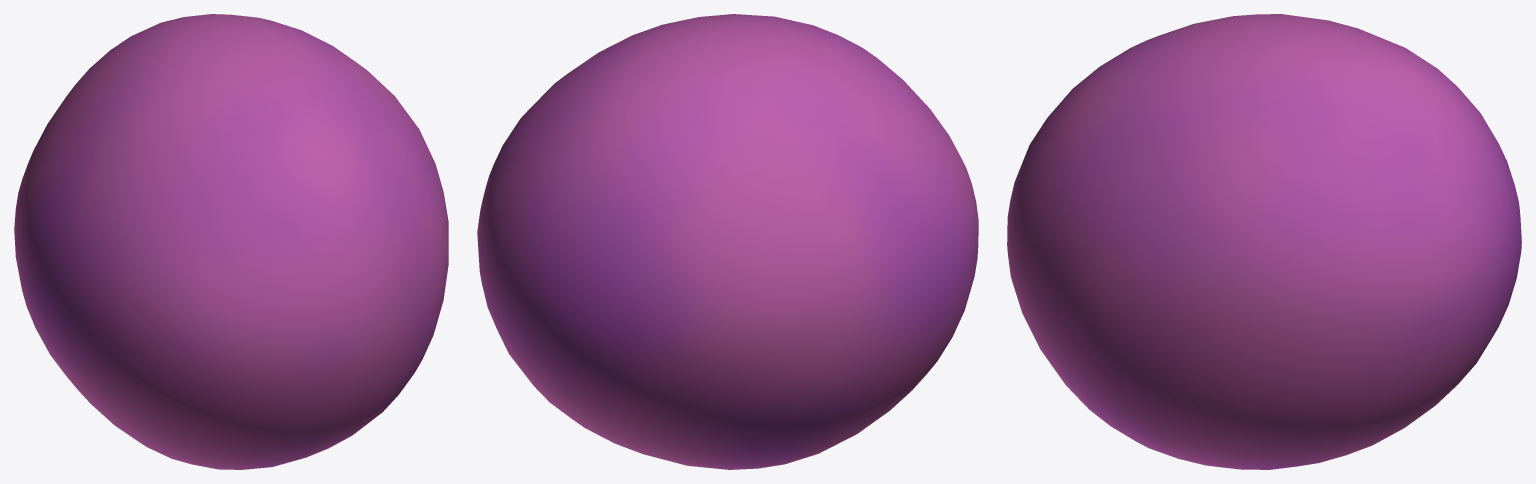
File: goop-blob0.glb
3 renders of one model, left to right at view 1: azimuth 30°, elevation 25°; view 2: azimuth 150°, elevation 25°; view 3: azimuth 270°, elevation 25°, orthographic. The views are drawn at different scales.
Visible parts, largest first — view 1: body; view 2: body; view 3: body.
Part boxes in pixels (left/top/right/bottom): body: left=14, top=14, right=448, bottom=469; body: left=477, top=14, right=978, bottom=469; body: left=1007, top=14, right=1521, bottom=469.
Size of the model in its own units: 0.1797 by 0.1771 by 0.1974.
